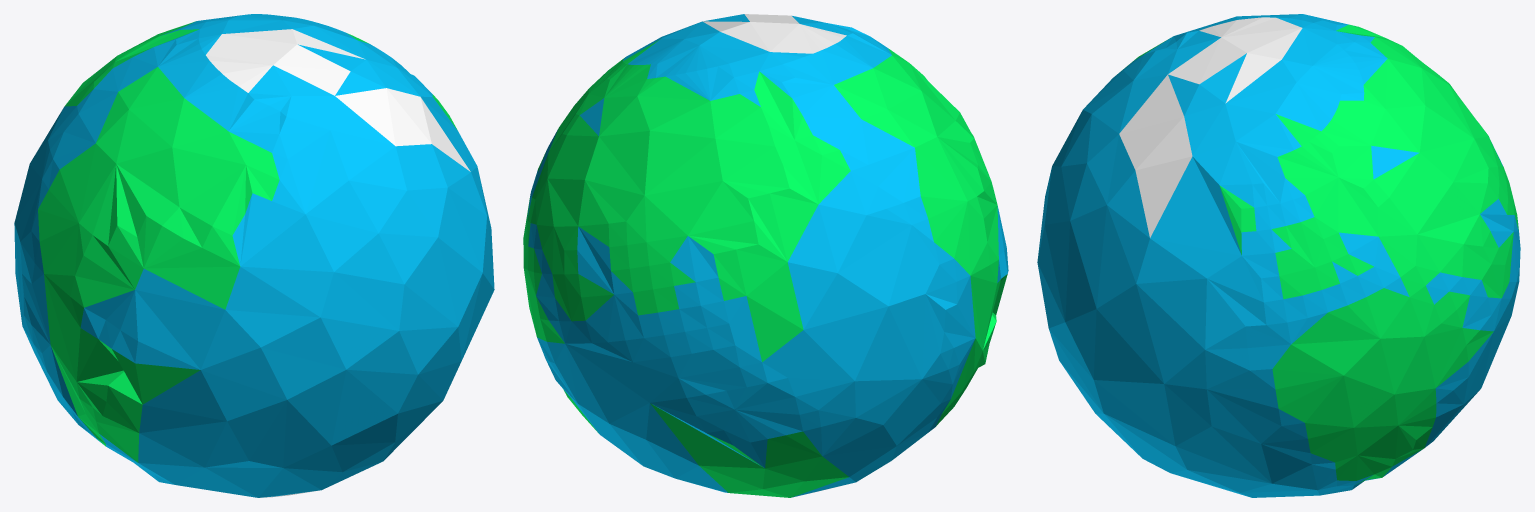
Rendered from Earth.glb.
The picture shows the model from 3 angles, left to right: view 1: azimuth 30°, elevation 25°; view 2: azimuth 150°, elevation 25°; view 3: azimuth 270°, elevation 25°; orthographic projection.
Parts seen in each view (by area): view 1: Sphere002; view 2: Sphere002; view 3: Sphere002.
Part boxes in pixels (x1,y1,x2,y2): Sphere002: (14, 14, 494, 497); Sphere002: (523, 14, 1008, 497); Sphere002: (1037, 14, 1520, 497).
Size of the model in its own units: 228098 by 227532 by 228084.
